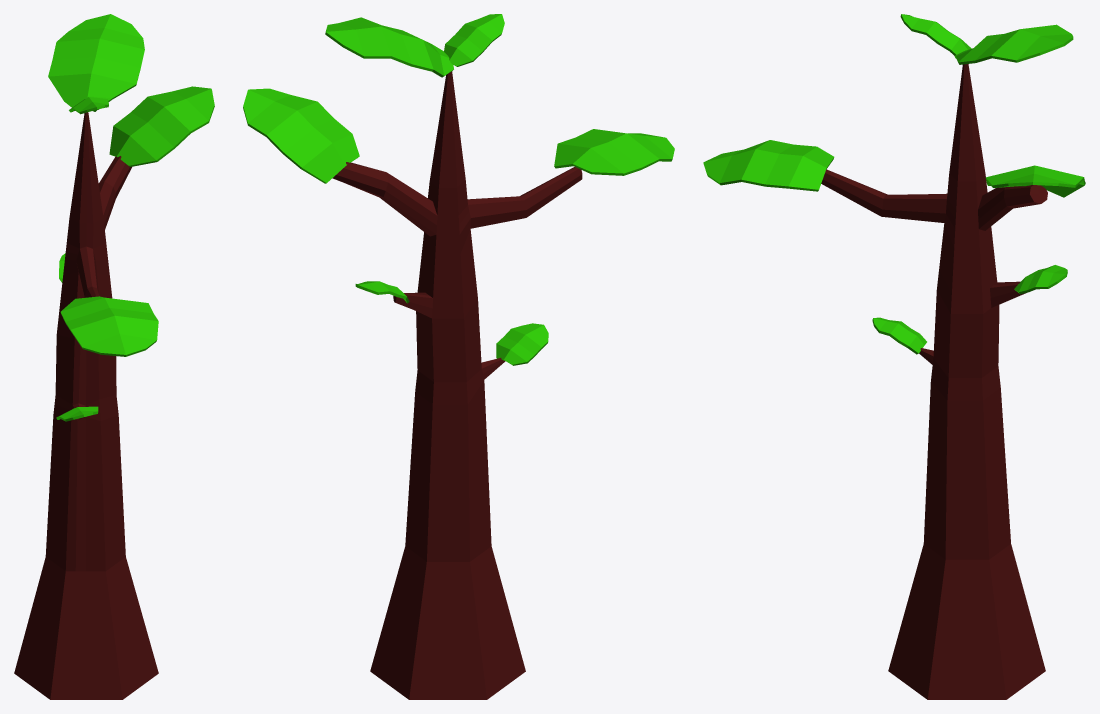
Rendered from Apple Tree Sapling.fbx.
The picture shows the model from 3 angles, left to right: view 1: azimuth 30°, elevation 25°; view 2: azimuth 150°, elevation 25°; view 3: azimuth 270°, elevation 25°; orthographic projection. The views are drawn at different scales.
Parts seen in each view (by area): view 1: Cylinder, Plane.002; view 2: Cylinder, Plane.002; view 3: Cylinder, Plane.002.
Part boxes in pixels (box(x1,y1,x2,y2)): Cylinder: box(14, 112, 158, 699); Plane.002: box(48, 14, 214, 421); Cylinder: box(332, 71, 582, 699); Plane.002: box(243, 14, 674, 365); Cylinder: box(821, 64, 1047, 699); Plane.002: box(703, 14, 1085, 354).
Bounding box in the file's own units: 112 × 250 × 130.
